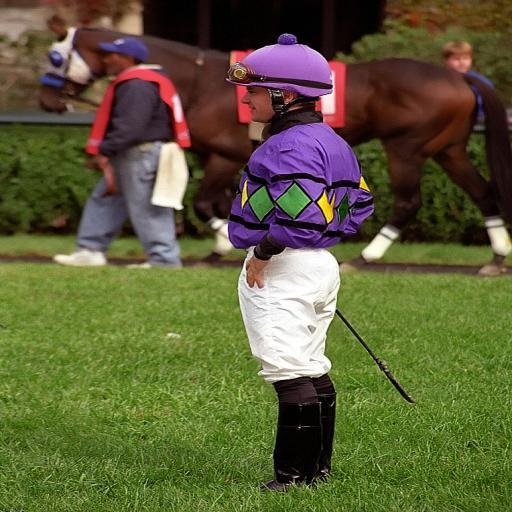horse: (32, 8, 511, 280)
